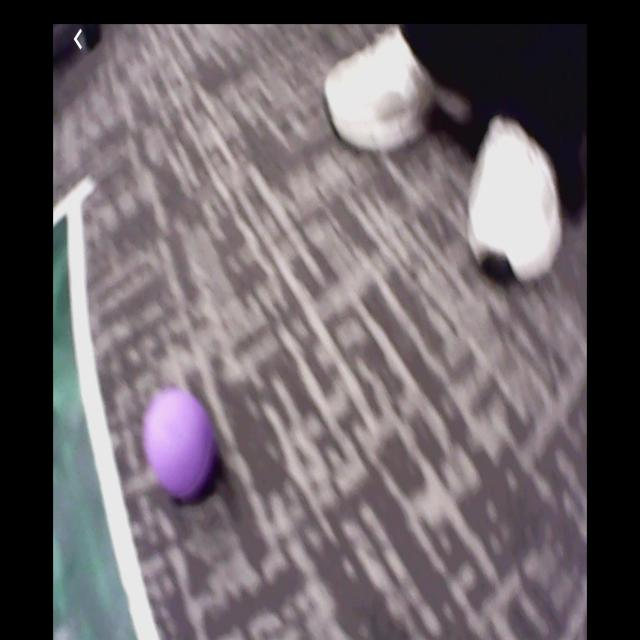ball: (144, 387, 217, 501)
